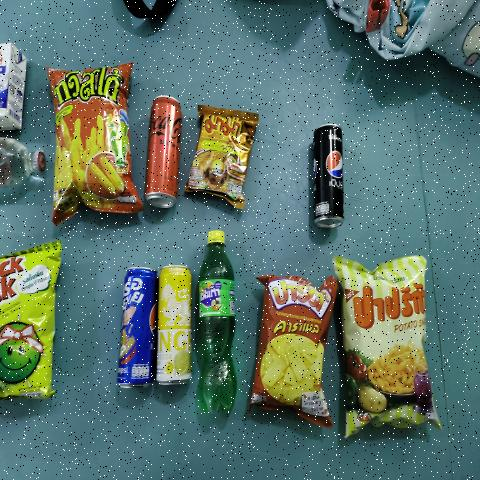coke_red: (146, 99, 180, 210)
fanta_green: (200, 230, 237, 431)
mama: (200, 108, 247, 203)
paprika: (350, 269, 421, 416)
party_red: (266, 284, 322, 413)
pepsi_black: (316, 127, 340, 229)
pepsi_blue: (123, 269, 153, 387)
singha_yellow: (155, 268, 195, 380)
twisco: (62, 71, 120, 203)
